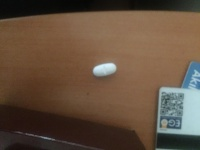Centik Buskopan: (92, 62, 118, 78)
